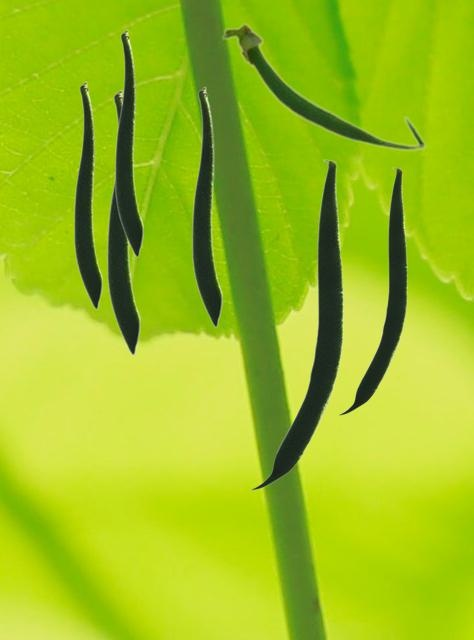french_bean: (250, 159, 342, 489), (220, 21, 426, 151), (338, 167, 406, 414), (106, 89, 140, 355), (191, 86, 222, 327), (73, 81, 102, 309), (114, 29, 143, 257)
